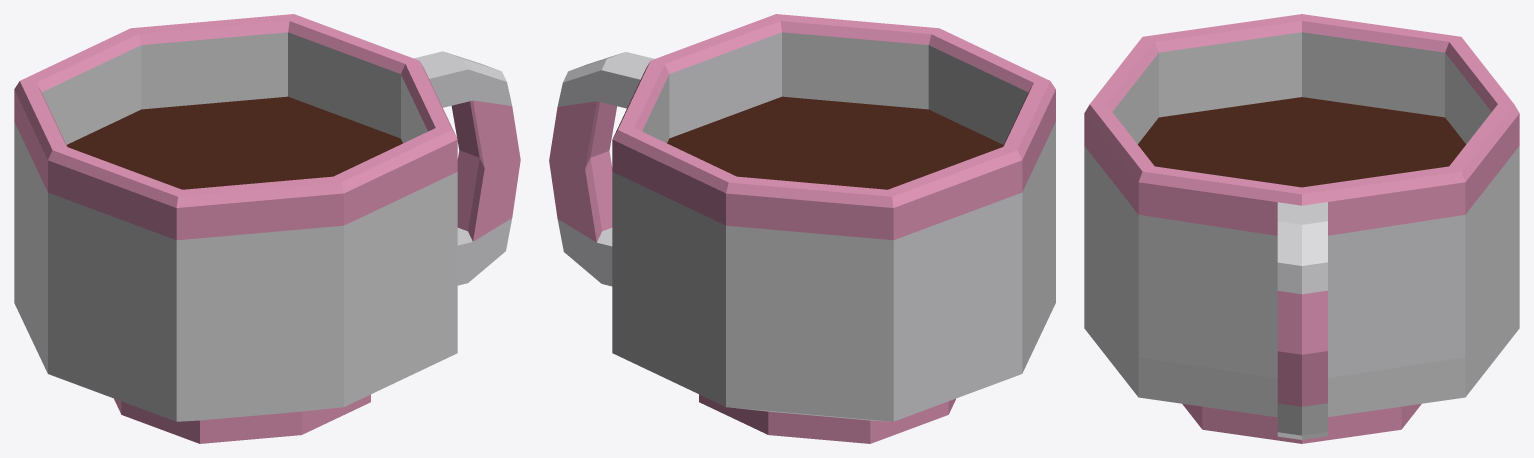
The model's file is TEA.fbx.
3 views of the same model, side by side, from view 1: azimuth 30°, elevation 25°; view 2: azimuth 150°, elevation 25°; view 3: azimuth 270°, elevation 25° (orthographic).
Visible parts, largest first — view 1: Cube; view 2: Cube; view 3: Cube.
Boxes of the visible parts, left/top/right/bottom form: Cube: left=14, top=14, right=520, bottom=443; Cube: left=549, top=14, right=1055, bottom=443; Cube: left=1084, top=14, right=1519, bottom=443.
Size of the model in its own units: 333 by 191 by 266.
